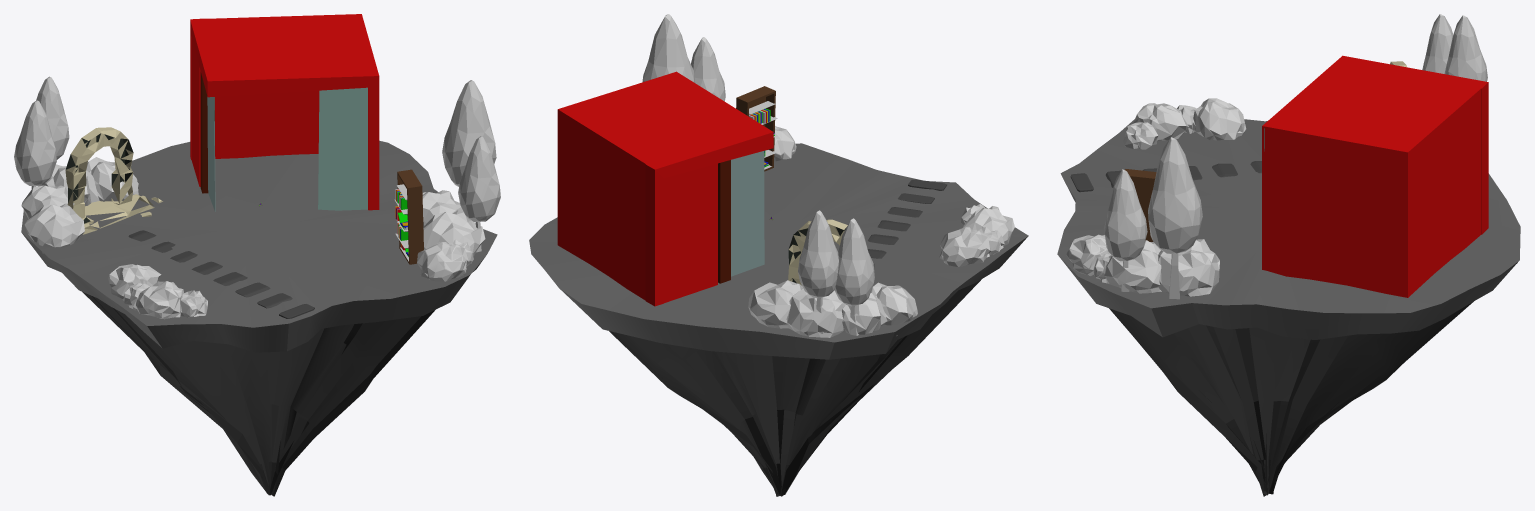
3 views of the same model, side by side, from view 1: azimuth 30°, elevation 25°; view 2: azimuth 150°, elevation 25°; view 3: azimuth 270°, elevation 25° (orthographic). The views are drawn at different scales.
Visible parts, largest first — view 1: Vert.001, Cube.001, Vert, Plane, Object_5, Tree_small_regular, Bush_group_average.002, Tree_small_regular.001, Tree_small_regular.003, Bush_group_average, Bush_group_small, Cube (+7 smaller); view 2: Vert.001, Cube.001, Vert, Plane.001, Bush_group_average.001, Tree_small_regular.002, Tree_small_regular.003, Bush_group_average.002, Tree_small_regular, Bush_group_small.002, Cube.002, Cube (+5 smaller); view 3: Cube.001, Vert.001, Vert, Tree_small_regular, Bush_group_average, Tree_small_regular.001, Bush_group_small, Bush_group_small.002, Tree_small_regular.002, Bush_group_small.001, Tree_small_regular.003, Cube (+1 smaller).
Part boxes in pixels (x1=…): Vert.001: x1=21, y1=140, x2=497, y2=352; Cube.001: x1=190, y1=14, x2=379, y2=210; Vert: x1=82, y1=292, x2=434, y2=496; Plane: x1=318, y1=87, x2=367, y2=210; Object_5: x1=65, y1=127, x2=162, y2=234; Tree_small_regular: x1=442, y1=80, x2=496, y2=186; Bush_group_average.002: x1=21, y1=185, x2=84, y2=252; Tree_small_regular.001: x1=458, y1=136, x2=500, y2=252; Tree_small_regular.003: x1=14, y1=100, x2=56, y2=188; Bush_group_average: x1=422, y1=190, x2=485, y2=256; Bush_group_small: x1=136, y1=281, x2=207, y2=319; Cube: x1=128, y1=230, x2=314, y2=318; Vert.001: x1=529, y1=143, x2=1028, y2=359; Cube.001: x1=557, y1=71, x2=773, y2=306; Vert: x1=609, y1=279, x2=981, y2=496; Plane.001: x1=731, y1=151, x2=764, y2=276; Bush_group_average.001: x1=748, y1=280, x2=845, y2=337; Tree_small_regular.002: x1=798, y1=210, x2=838, y2=333; Tree_small_regular.003: x1=834, y1=218, x2=874, y2=335; Bush_group_average.002: x1=842, y1=282, x2=917, y2=335; Tree_small_regular: x1=642, y1=14, x2=695, y2=82; Bush_group_small.002: x1=939, y1=227, x2=1004, y2=266; Cube.002: x1=718, y1=160, x2=730, y2=283; Cube: x1=867, y1=179, x2=947, y2=266; Cube.001: x1=1262, y1=55, x2=1488, y2=297; Vert.001: x1=1057, y1=119, x2=1520, y2=339; Vert: x1=1109, y1=301, x2=1473, y2=496; Tree_small_regular: x1=1148, y1=137, x2=1202, y2=299; Bush_group_average: x1=1104, y1=239, x2=1219, y2=296; Tree_small_regular.001: x1=1104, y1=169, x2=1147, y2=291; Bush_group_small: x1=1123, y1=103, x2=1189, y2=149; Bush_group_small.002: x1=1177, y1=98, x2=1246, y2=140; Tree_small_regular.002: x1=1444, y1=15, x2=1487, y2=81; Bush_group_small.001: x1=1066, y1=234, x2=1111, y2=283; Tree_small_regular.003: x1=1422, y1=14, x2=1453, y2=73; Cube: x1=1070, y1=161, x2=1261, y2=192.
Bounding box in the file's own units: 7.65 × 7.95 × 7.58.
